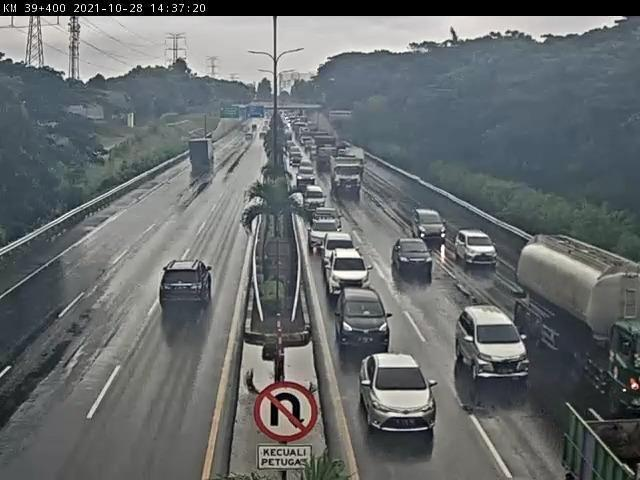car: (361, 353, 438, 434), (448, 294, 519, 374), (336, 287, 392, 352), (158, 262, 213, 309), (328, 249, 375, 299), (450, 224, 501, 266), (391, 238, 433, 278), (307, 218, 344, 257), (408, 206, 446, 242), (325, 234, 359, 265), (314, 207, 345, 236), (302, 185, 330, 214), (294, 166, 318, 185)
truck: (510, 230, 640, 392), (538, 379, 640, 480), (328, 153, 367, 198), (190, 140, 217, 171)
